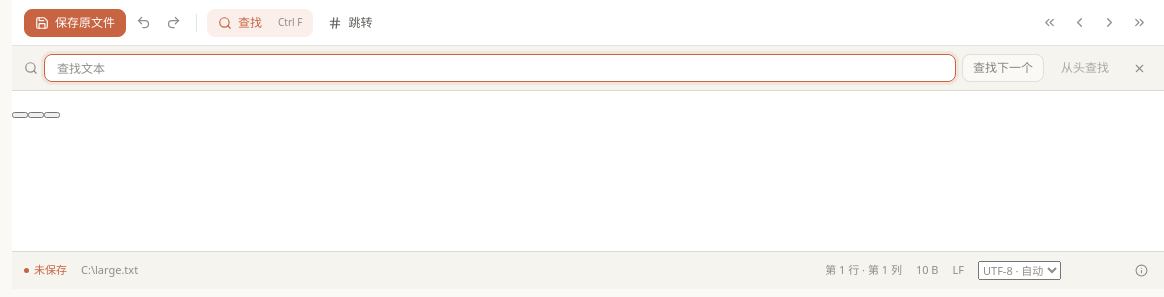
Test: 查找与行号输入按需展开，快捷键聚焦，收起时保留输入和草稿
Step 1. Type "needle" into the field named "查找文本" → (500, 68), box left=44, top=54, right=956, bottom=82
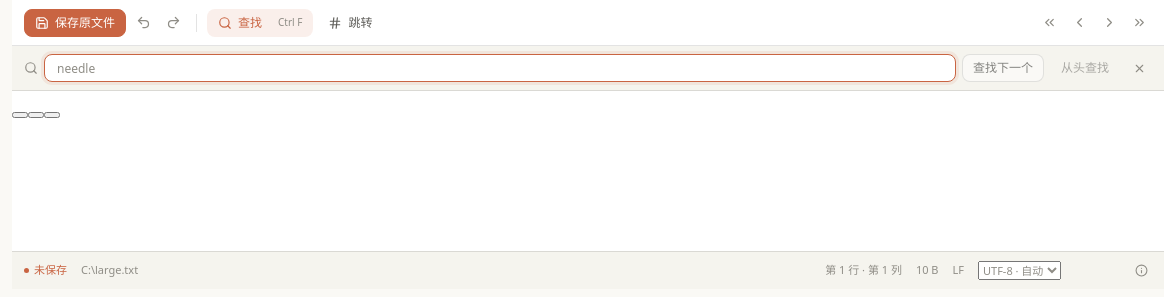
Step 2. Press Escape in the field named "查找文本", box left=44, top=54, right=956, bottom=82
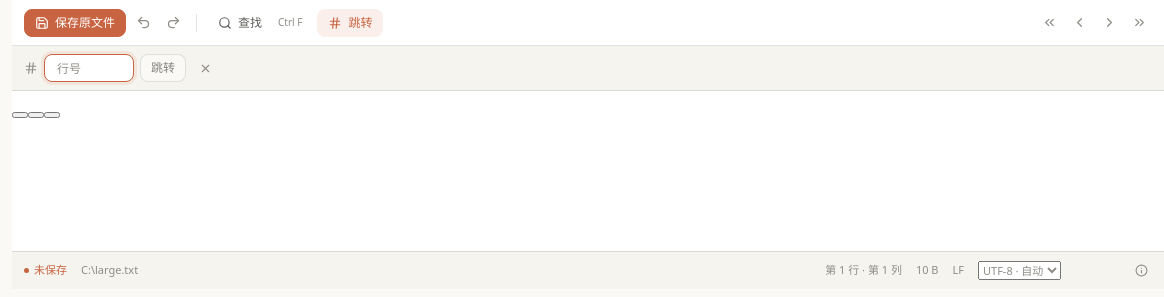
Expected: the field named "查找文本" is gone
